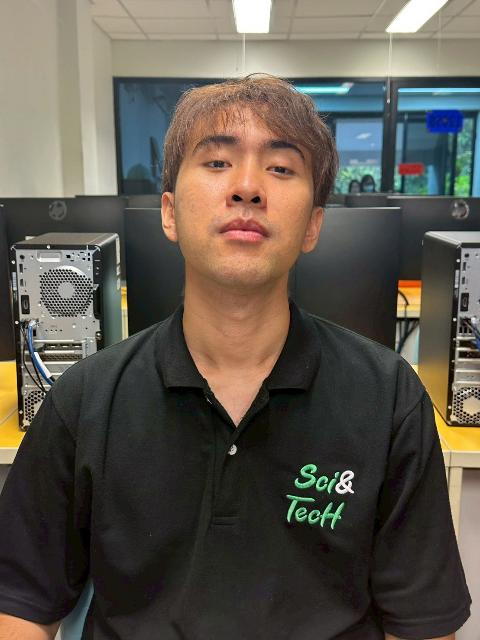fokus: (175, 107, 313, 276)
